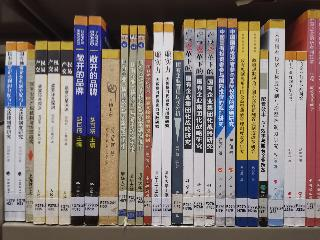book-spine: (98, 49, 121, 227), (267, 20, 286, 227), (71, 14, 89, 226), (85, 14, 102, 226), (32, 41, 49, 224), (44, 40, 60, 225), (183, 18, 196, 225), (193, 20, 206, 226), (236, 21, 249, 227), (281, 52, 296, 227), (59, 41, 73, 226), (14, 41, 28, 222), (225, 18, 237, 227), (3, 43, 17, 221), (206, 20, 218, 227), (248, 21, 260, 228), (151, 21, 163, 226), (294, 52, 308, 227), (307, 10, 318, 226), (215, 18, 226, 227), (127, 25, 138, 227), (118, 25, 129, 226), (24, 49, 36, 222), (163, 22, 173, 227), (135, 26, 145, 227), (173, 51, 184, 225), (258, 48, 268, 228), (144, 50, 153, 226)
